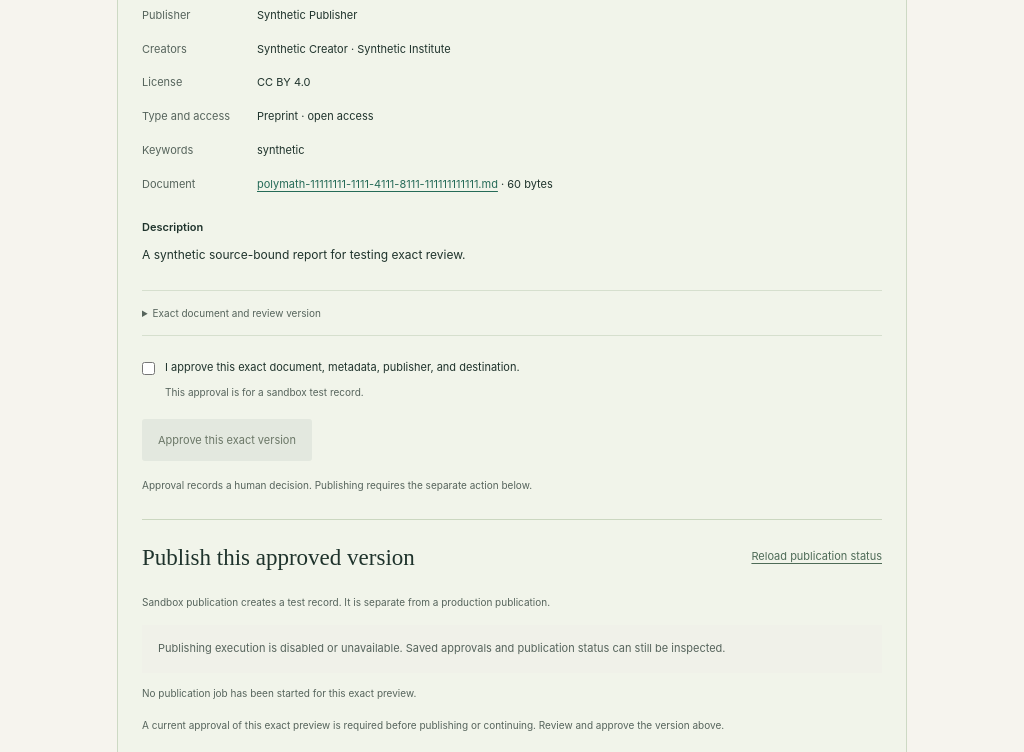
human approval of exact saved publication versions › reconciles a lost approval response through read-only reload instead of resubmitting
(page scrolled)
Click the checkbox labelled "I approve this exact document, metadata, publisher, and destination" at (148, 369), box 142,362 -> 155,375
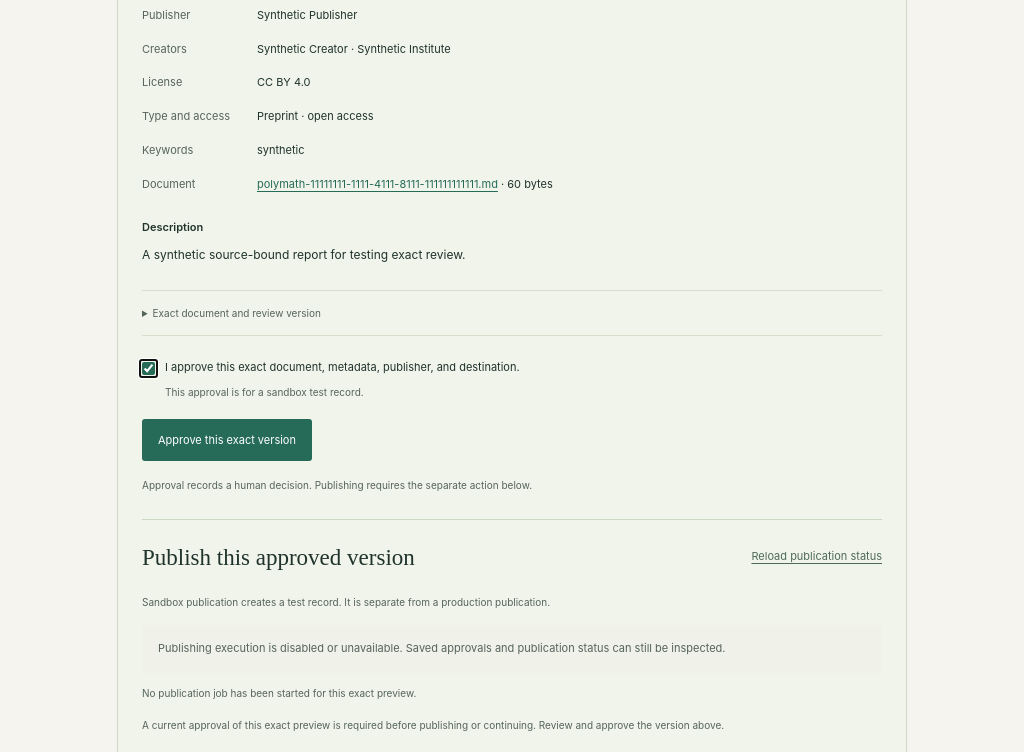
Click the button "Approve this exact version" at (227, 440), box 142,419 -> 312,461
(page scrolled)
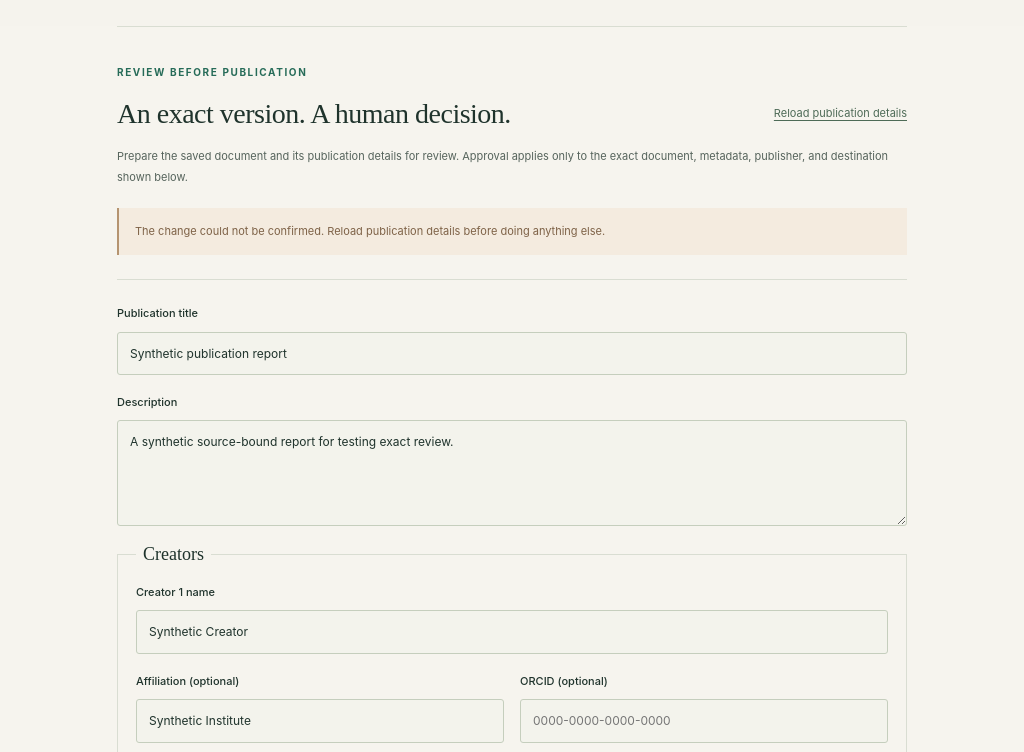
Result: the message shows "The change could not be confirmed" at 135,224 -> 605,238
Result: the button "Approve this exact version" is gone
Click the button "Reload publication details" at (840, 113), box 774,100 -> 907,126
(page scrolled)
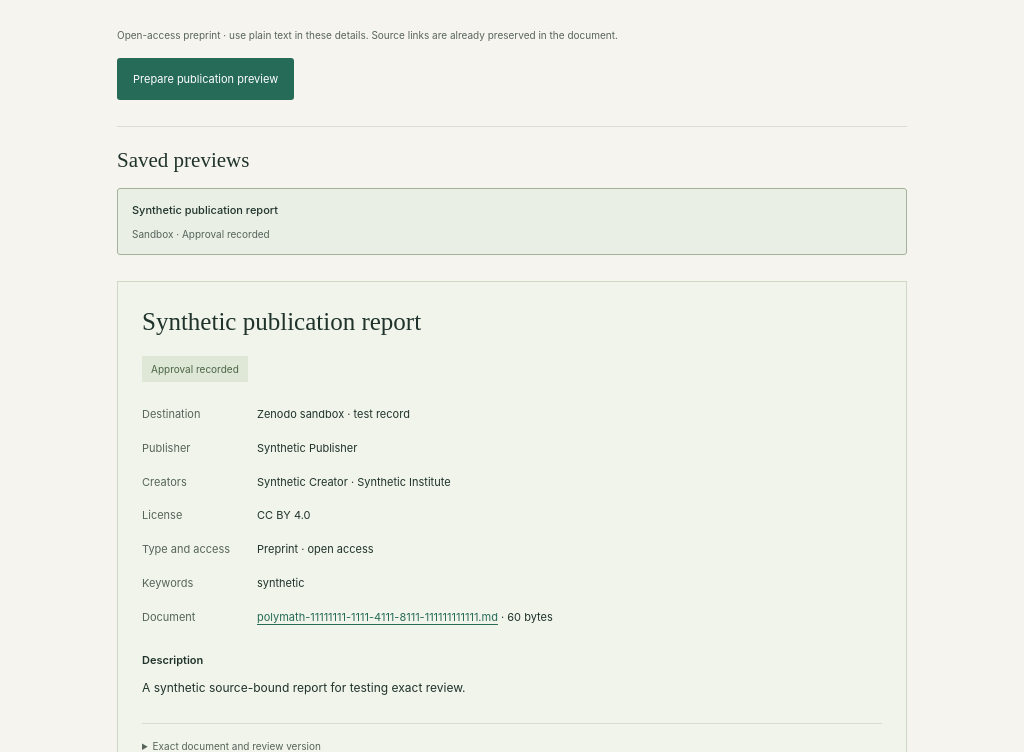
Result: the text "Approval recorded" is shown at 142,356 -> 248,382
